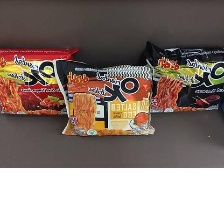snack: (48, 52, 160, 140), (135, 34, 223, 119), (0, 42, 84, 120)
